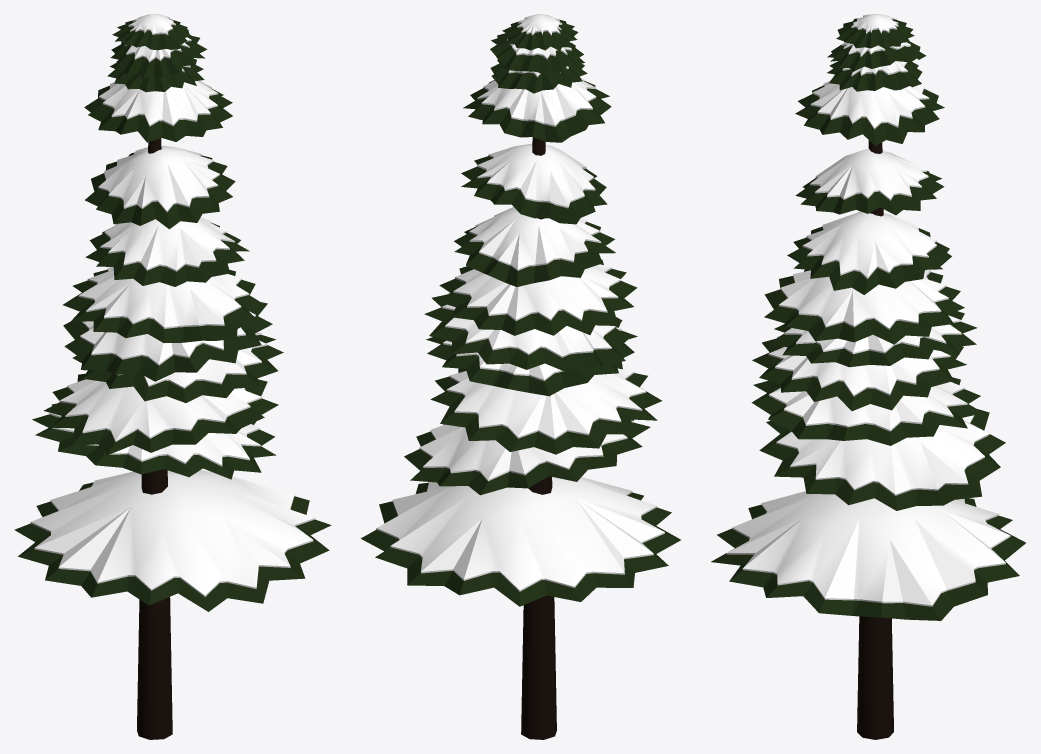
The model's file is s_tree_008.FBX.
3 views of the same model, side by side, from view 1: azimuth 30°, elevation 25°; view 2: azimuth 150°, elevation 25°; view 3: azimuth 270°, elevation 25° (orthographic).
Visible parts, largest first — view 1: s_tree_leaves_008 (×2); view 2: s_tree_leaves_008 (×2); view 3: s_tree_leaves_008 (×2).
Boxes of the visible parts, box(x1,y1,x2,y2) form: s_tree_leaves_008 (×2): box(14, 14, 331, 739); s_tree_leaves_008 (×2): box(361, 14, 680, 739); s_tree_leaves_008 (×2): box(711, 14, 1025, 739).
Bounding box in the file's own units: 1.72 × 4.26 × 1.7.
